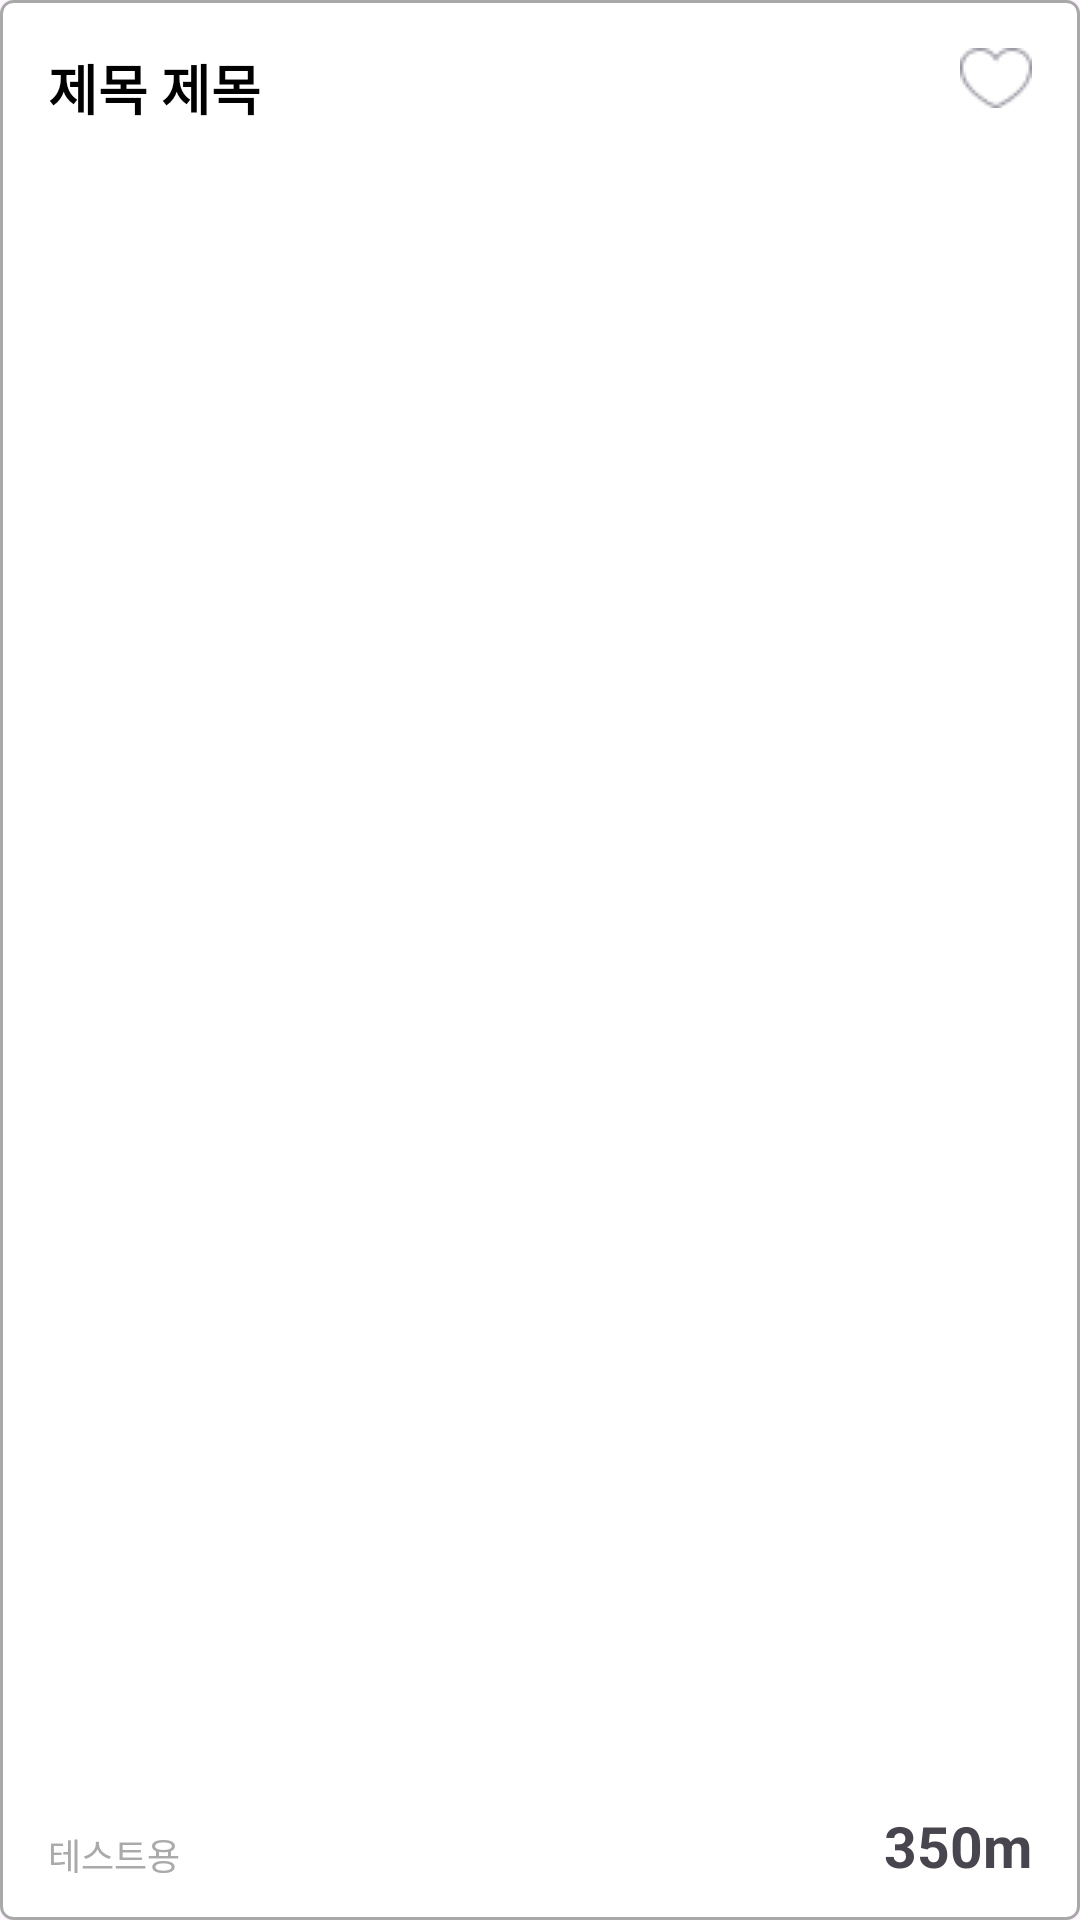

Where to tap for icons on this 1080 × 1920 app screen, as (x,y):
heartdefault: (996,78)
